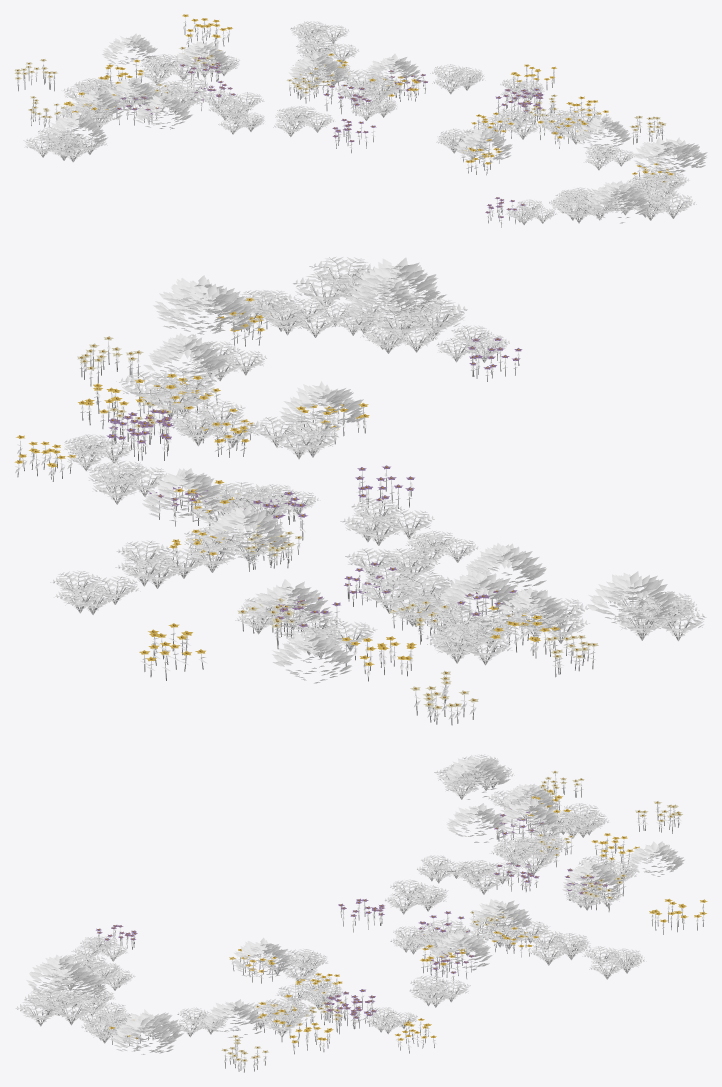
File: SM_DF_Explorer_3_3_Flora.fbx
3 views of the same model, one above another, from view 1: azimuth 30°, elevation 25°; view 2: azimuth 150°, elevation 25°; view 3: azimuth 270°, elevation 25° (orthographic). The views are drawn at different scales.
Parts seen in each view (by area): view 1: SM_DF_Explorer_3_3_Flora; view 2: SM_DF_Explorer_3_3_Flora; view 3: SM_DF_Explorer_3_3_Flora.
Part boxes in pixels (x1,y1,x2,y2): SM_DF_Explorer_3_3_Flora: (14,14,707,227); SM_DF_Explorer_3_3_Flora: (14,256,706,725); SM_DF_Explorer_3_3_Flora: (16,754,707,1072).
Bounding box in the file's own units: 2052 × 2134 × 208.
